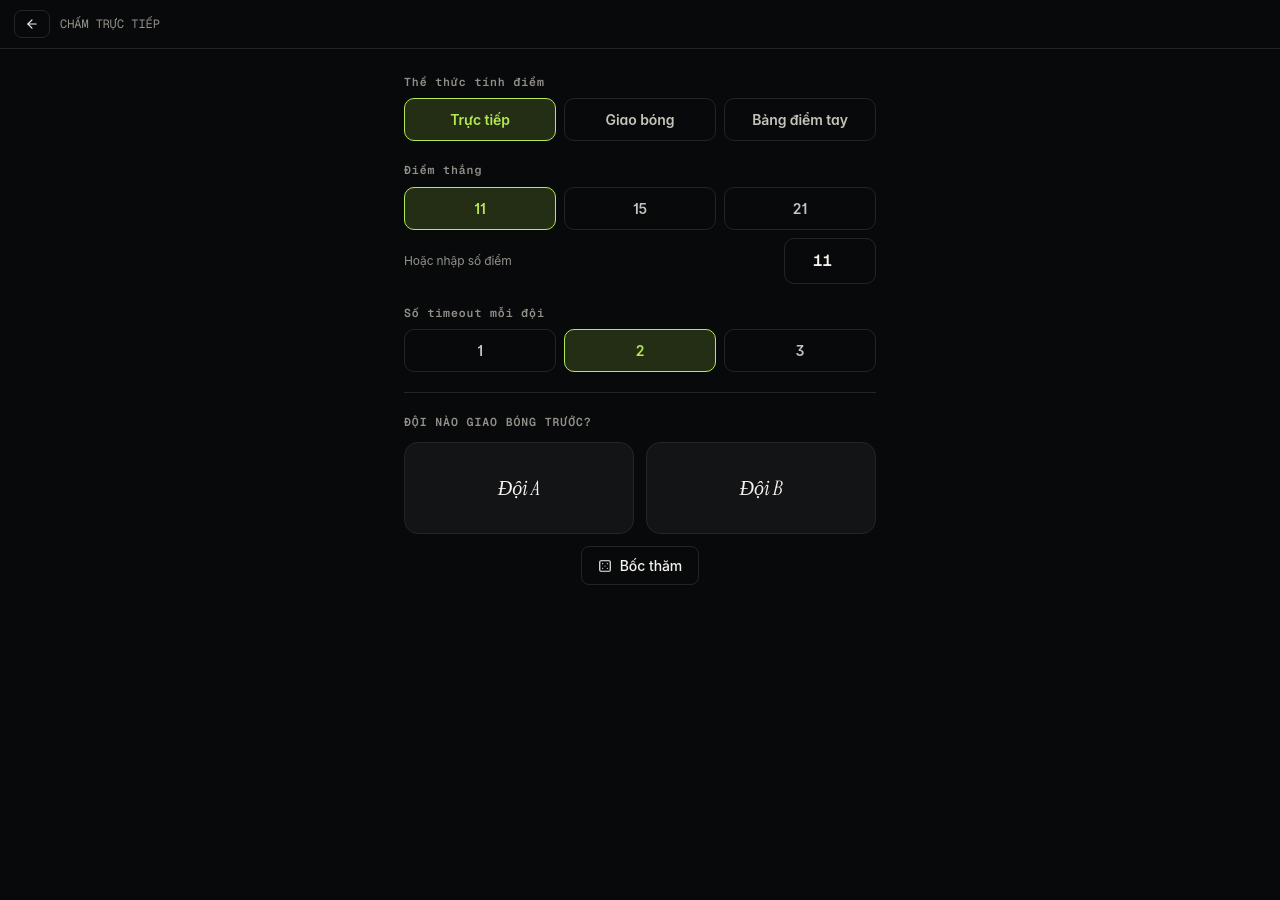
it: RefereeScoringScreen › mất quyền chấm khi bắt đầu thì màn hình khoá lại
This screenshot has width=1280, height=900.
Click the button "Đội A" at (519, 488), box [404, 442, 634, 534]
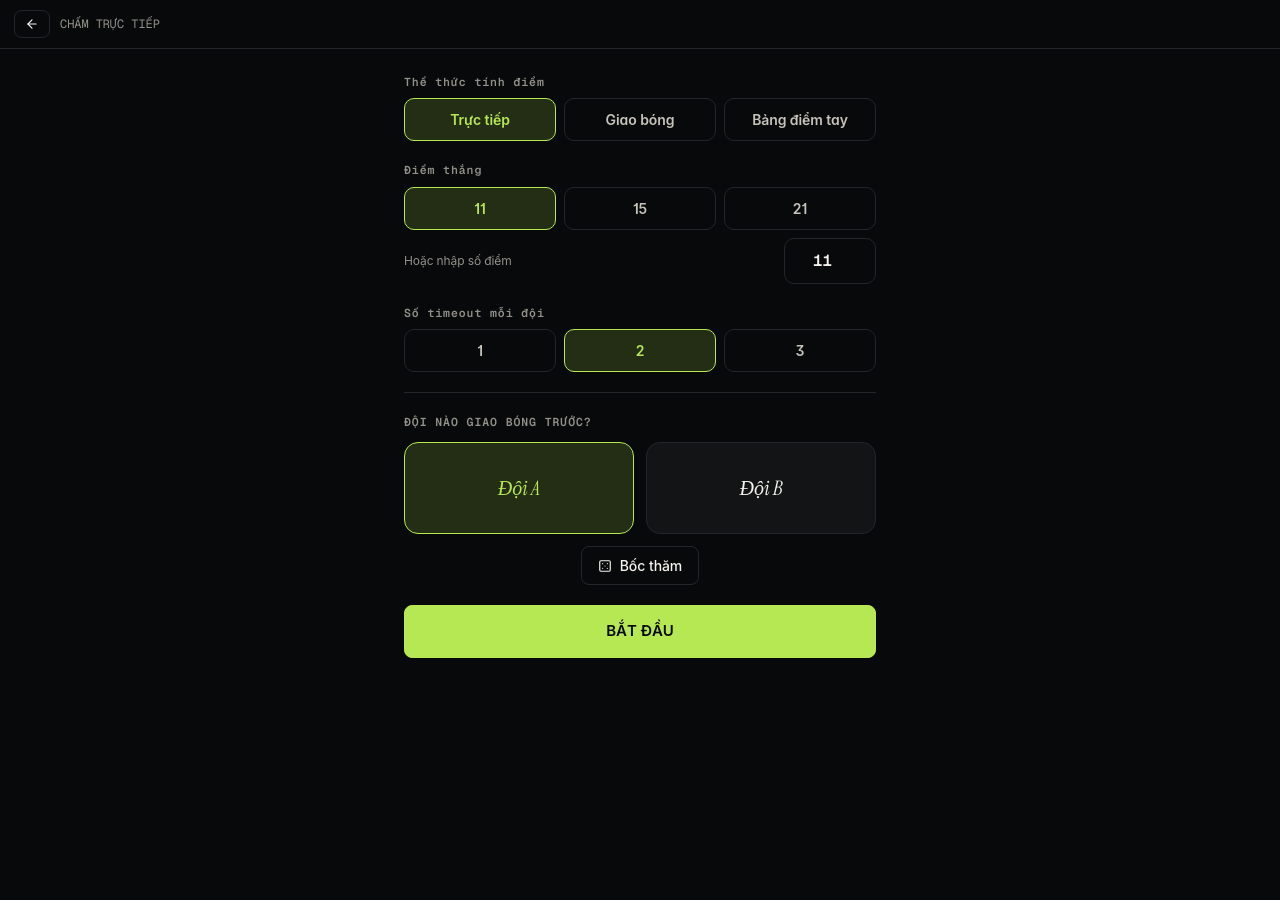
Click the button "BẮT ĐẦU" at (640, 631), box [404, 605, 876, 658]
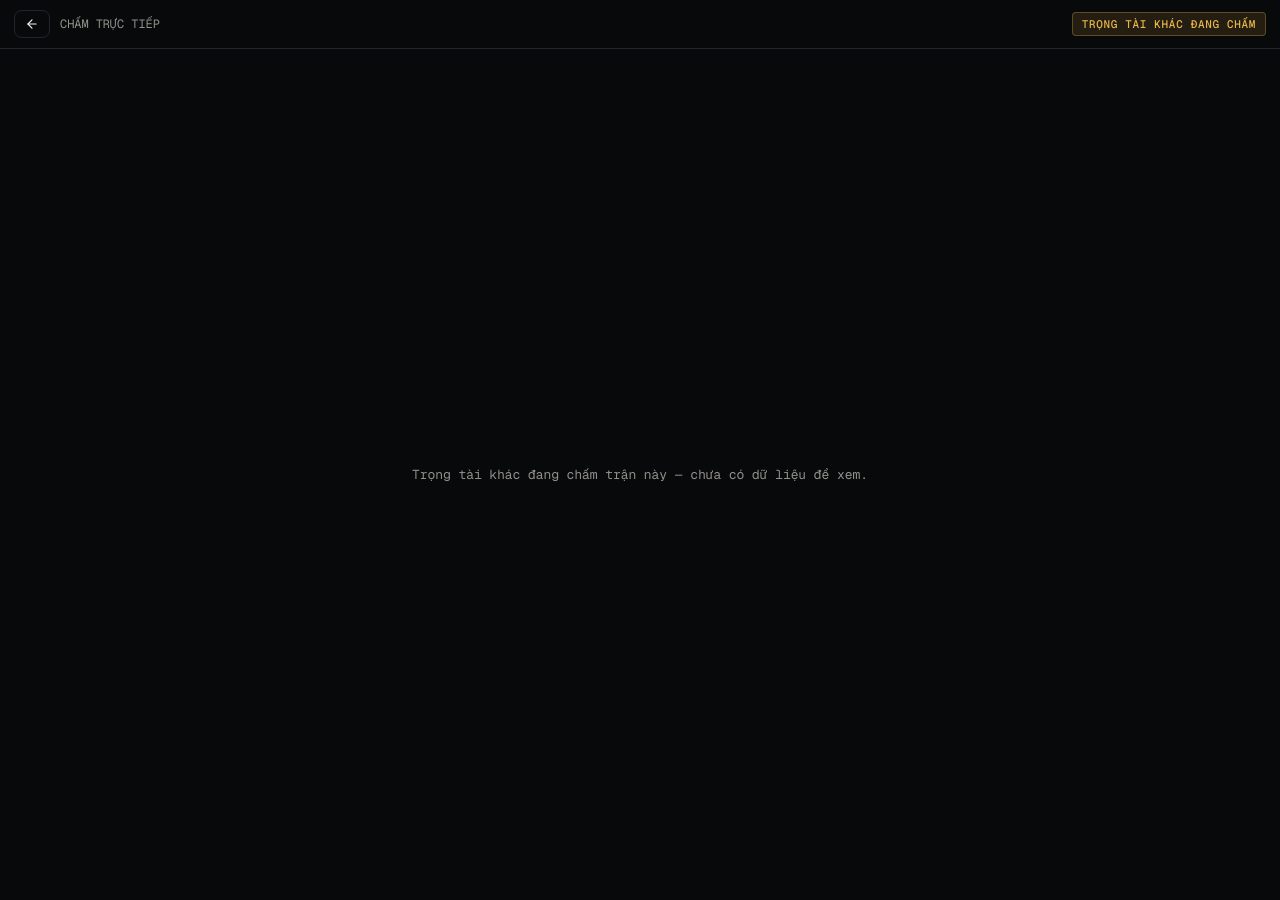
Result: the text "Trọng tài khác đang chấm" is shown at [1072, 12, 1266, 36]
